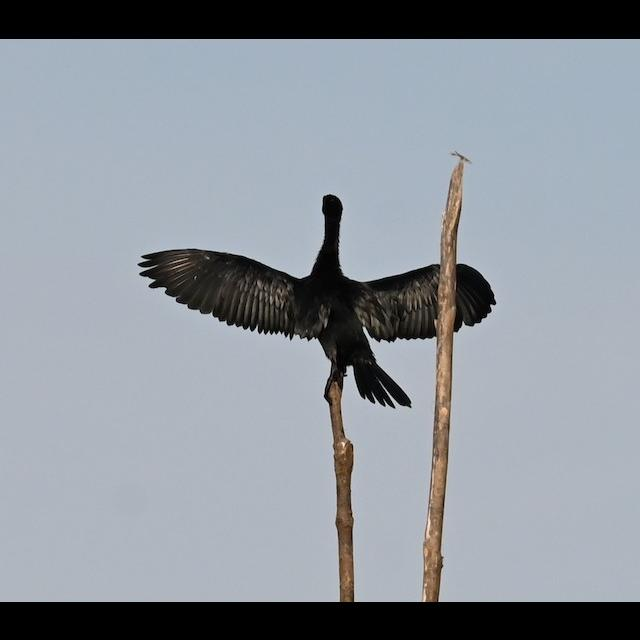heron: (129, 191, 509, 421)
